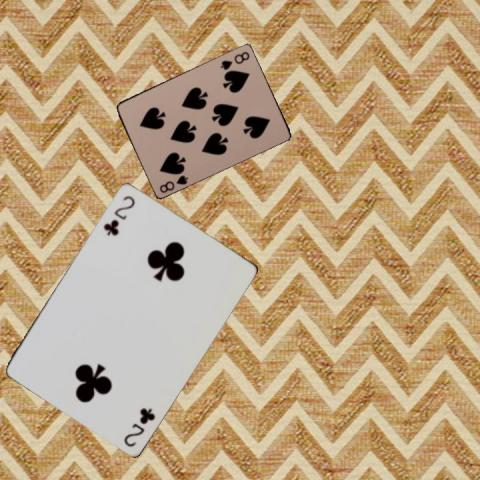2c: (100, 192, 137, 237), (120, 404, 156, 448)
8s: (218, 48, 252, 71), (157, 172, 190, 194)
